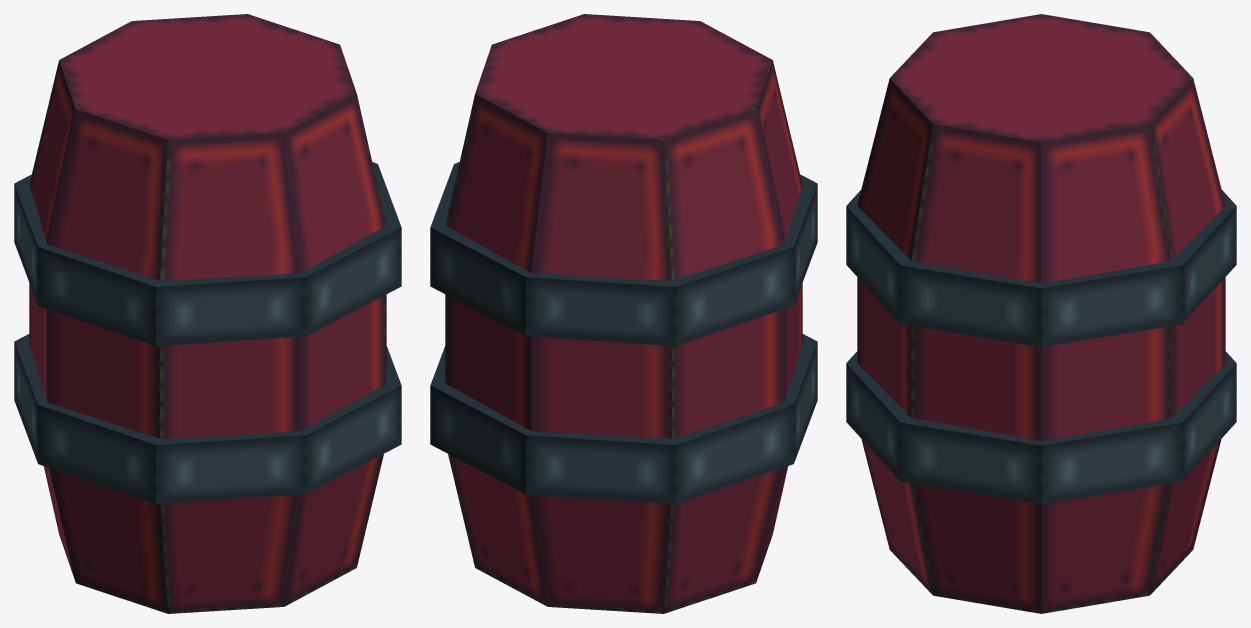
Rendered from Explosivebarrel.fbx.
3 views of the same model, side by side, from view 1: azimuth 30°, elevation 25°; view 2: azimuth 150°, elevation 25°; view 3: azimuth 270°, elevation 25° (orthographic).
Parts seen in each view (by area): view 1: ExplosiveBarrel; view 2: ExplosiveBarrel; view 3: ExplosiveBarrel.
Boxes of the visible parts, <box> form: ExplosiveBarrel: <box>14,14,401,613</box>; ExplosiveBarrel: <box>430,14,817,613</box>; ExplosiveBarrel: <box>846,14,1236,613</box>.
Bounding box in the file's own units: 112 × 150 × 112.
